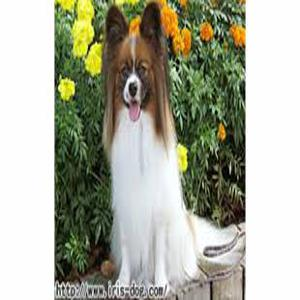yell: (101, 2, 239, 290)
